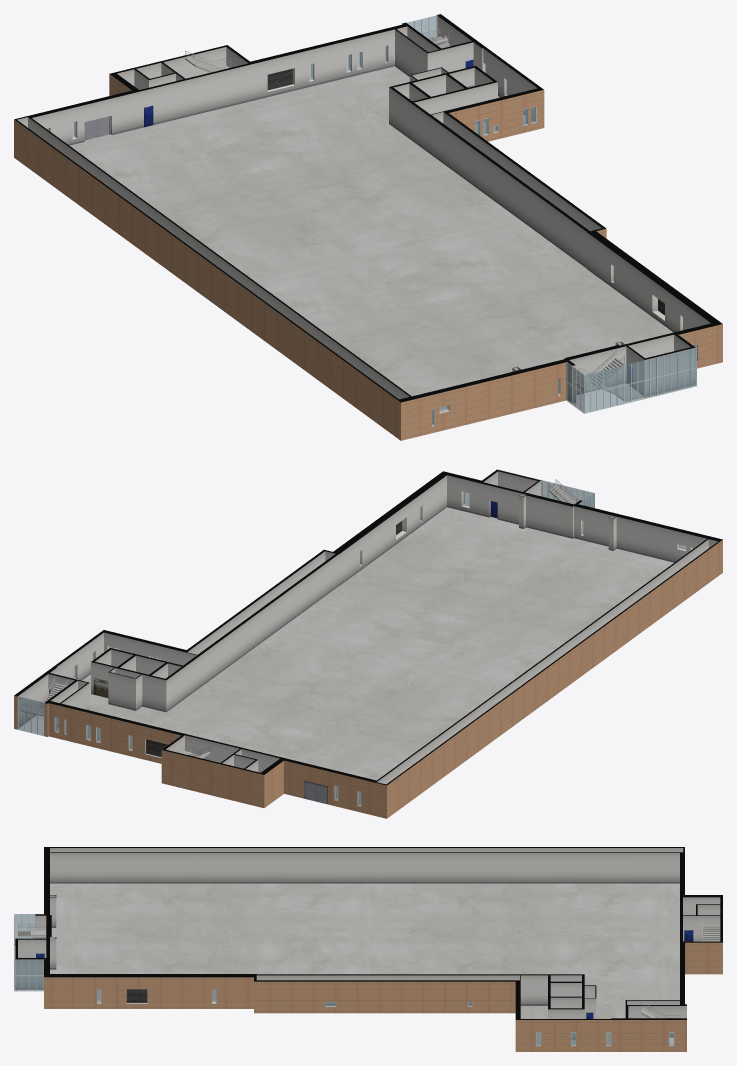
3 renders of one model, top to bottom at view 1: azimuth 30°, elevation 25°; view 2: azimuth 150°, elevation 25°; view 3: azimuth 270°, elevation 25°, orthographic. The views are drawn at different scales.
Visible parts, largest first — view 1: Line2258, RP2-5F, Rectangle1144, UTypeStair036; view 2: Line2258, RP2-5F, Rectangle1144; view 3: Line2258, RP2-5F, Rectangle1144.
Part boxes in pixels (bbox=[...]): Line2258: bbox=[70, 66, 672, 409]; RP2-5F: bbox=[14, 14, 722, 440]; Rectangle1144: bbox=[47, 15, 696, 426]; UTypeStair036: bbox=[577, 357, 642, 401]; Line2258: bbox=[57, 507, 673, 803]; RP2-5F: bbox=[14, 470, 722, 818]; Rectangle1144: bbox=[17, 469, 692, 806]; Line2258: bbox=[50, 883, 679, 1044]; RP2-5F: bbox=[15, 847, 722, 1051]; Rectangle1144: bbox=[14, 914, 686, 1046].
Size of the model in its own units: 46.78 by 4.8 by 81.01.
Materials: 11 (9 with a texture image).
